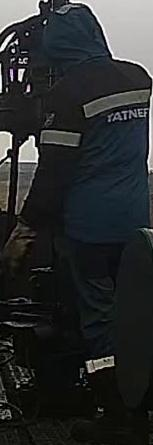gloves: (0, 209, 39, 267)
vest: (38, 57, 153, 245)
